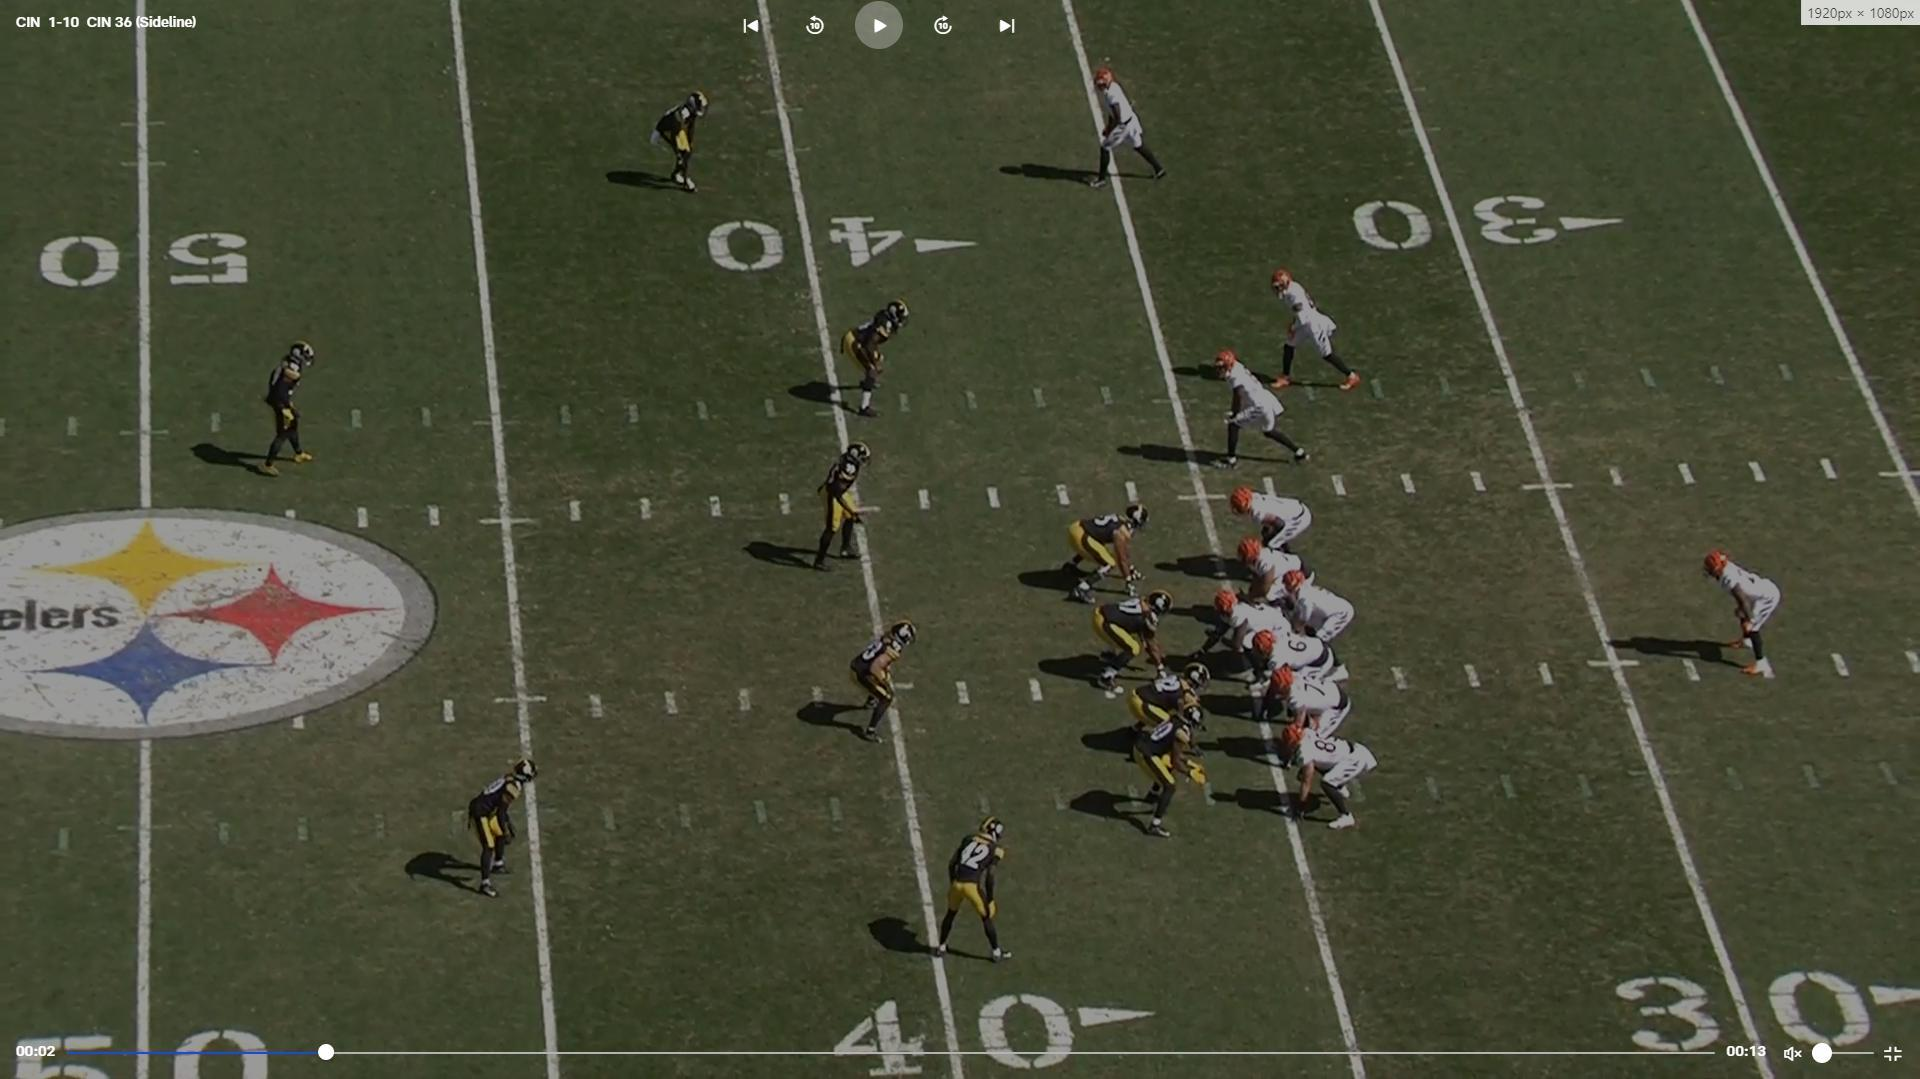player: (928, 811, 1028, 976), (1266, 262, 1369, 401), (1212, 349, 1315, 475), (1132, 693, 1209, 846), (1699, 546, 1784, 684), (1083, 63, 1172, 191), (836, 293, 917, 432), (1285, 725, 1382, 840), (809, 429, 882, 579), (1055, 501, 1150, 608), (845, 614, 918, 752), (469, 758, 536, 905), (249, 333, 317, 476), (1096, 588, 1181, 700), (1118, 665, 1204, 769), (1202, 588, 1296, 683), (653, 84, 721, 203), (1258, 662, 1346, 749), (1289, 569, 1361, 660), (1233, 482, 1316, 553), (1236, 540, 1313, 608), (1253, 626, 1337, 684)
